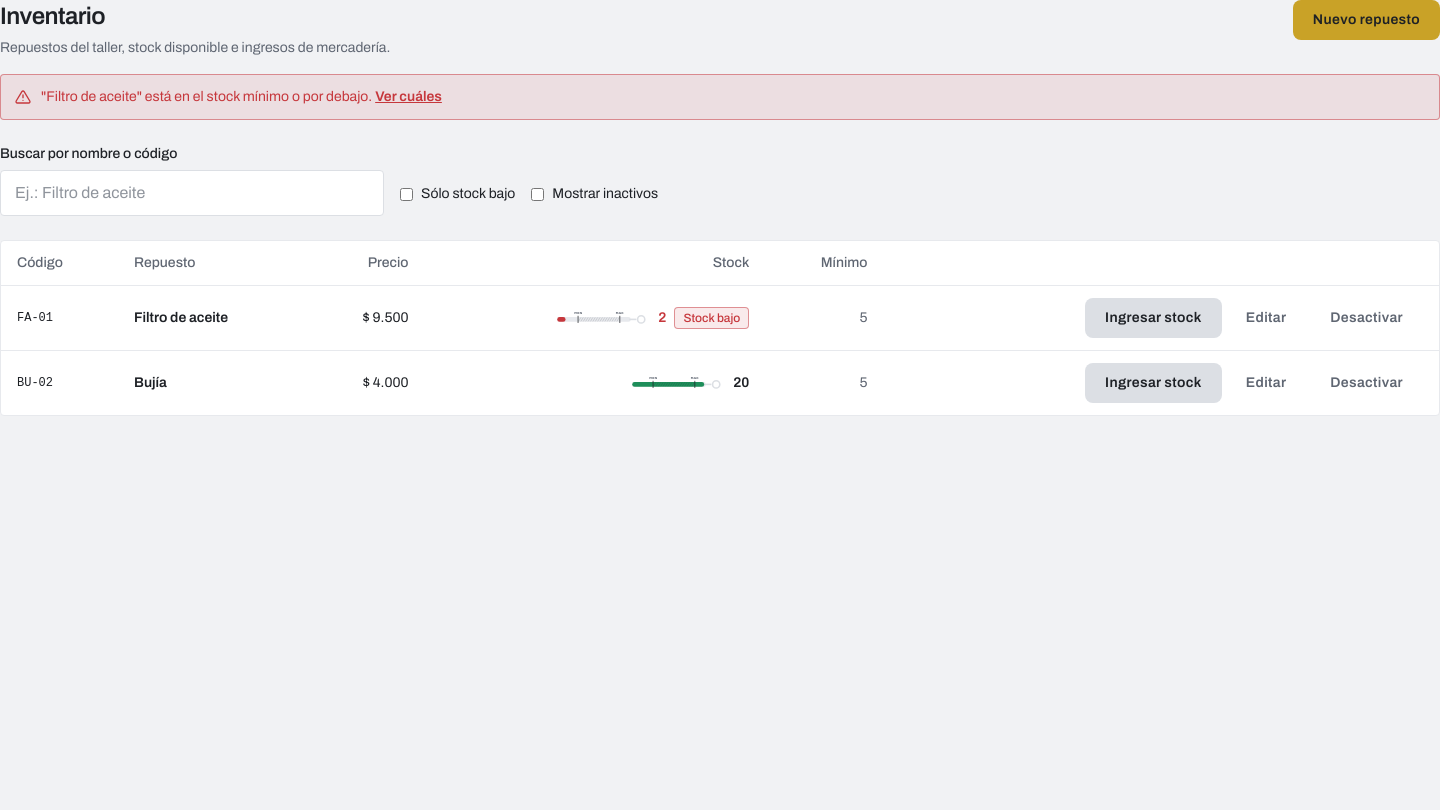
it: Inventario › desactivar pide confirmación y muestra el error si falla
This screenshot has width=1440, height=810.
Expected: the table is shown, [1, 241, 1439, 415]
What coordinates should you click on to do the following:
click the button "Desactivar" in the row of "BU-02"
I would click on:
 (1367, 383)
Its box is [1310, 363, 1423, 403].
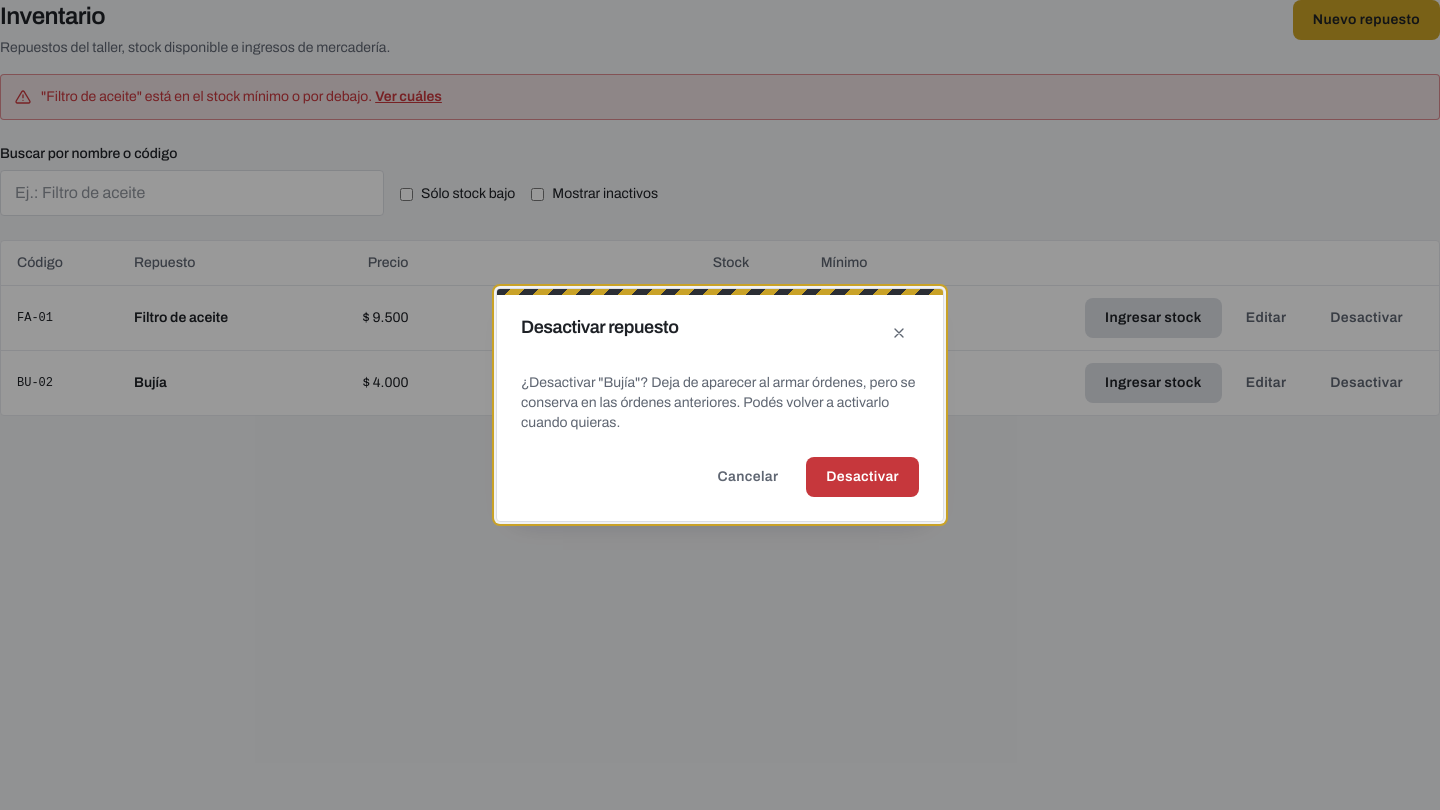
What coordinates should you click on to do the following:
click the button "Desactivar"
I would click on:
 (863, 477)
Its box is [806, 457, 919, 497].
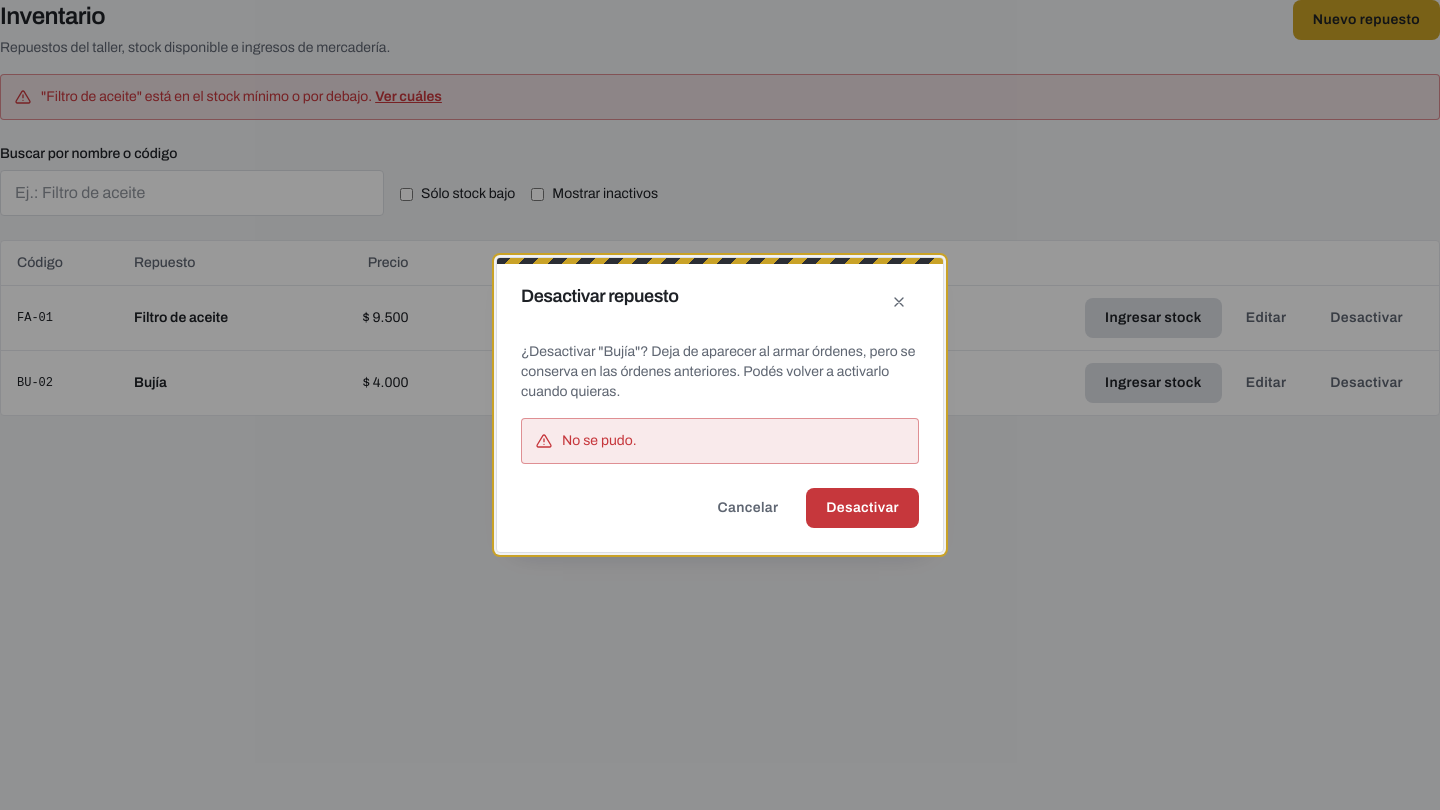
Result: the text "No se pudo." is shown at [562, 433, 637, 448]
What coordinates should you click on to do the following:
click the button "Desactivar"
I would click on:
 (863, 508)
Its box is [806, 488, 919, 528].
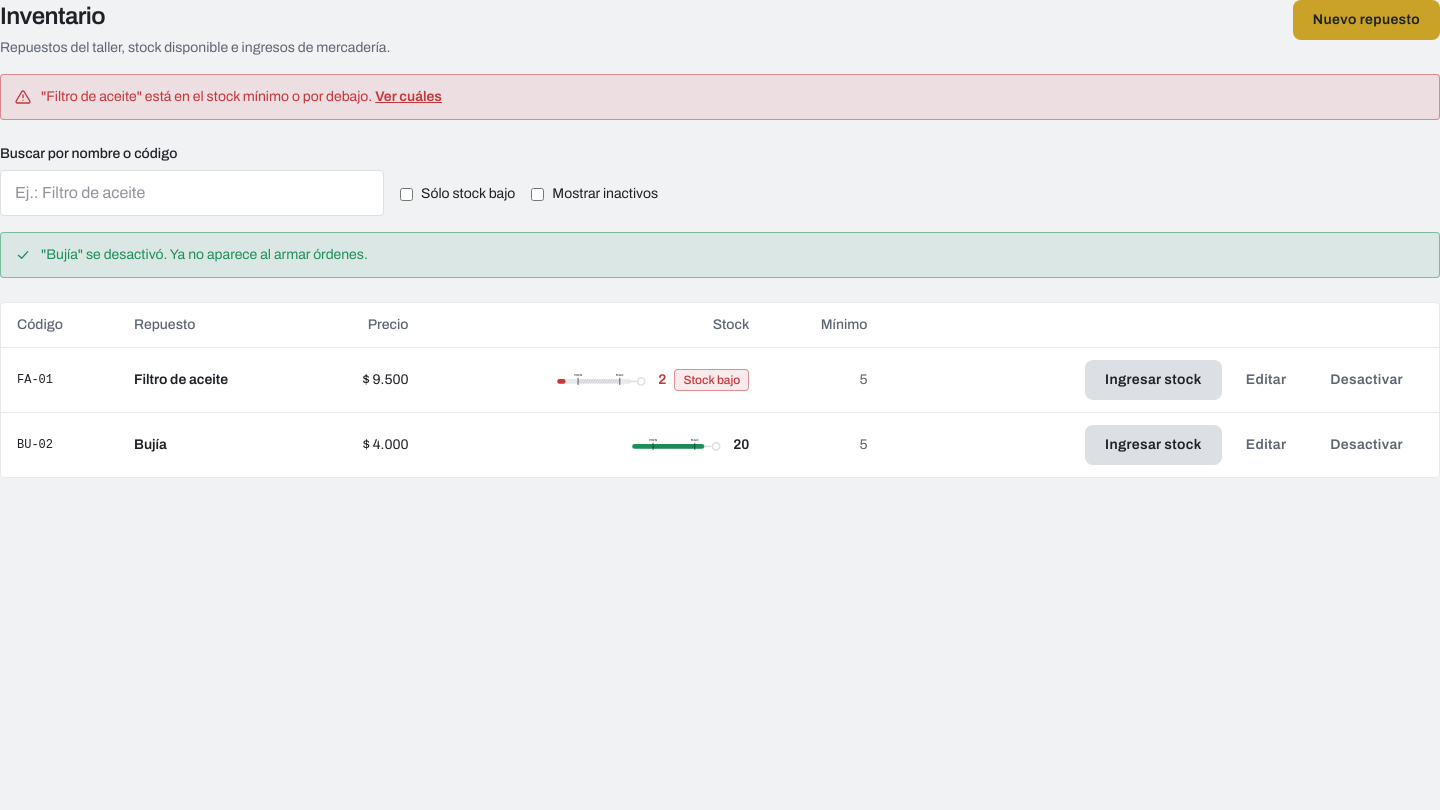
Result: the text "\"Bujía\" se desactivó. Ya no aparece al armar órdenes." is shown at [41, 247, 368, 262]
